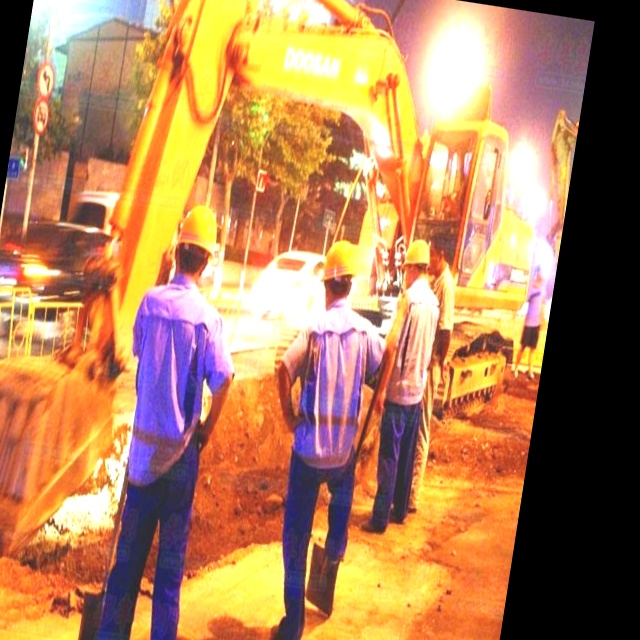Con_Casco: (174, 203, 222, 286), (319, 235, 360, 307)
Sin_Chaleco: (118, 283, 228, 504), (291, 311, 380, 474)
